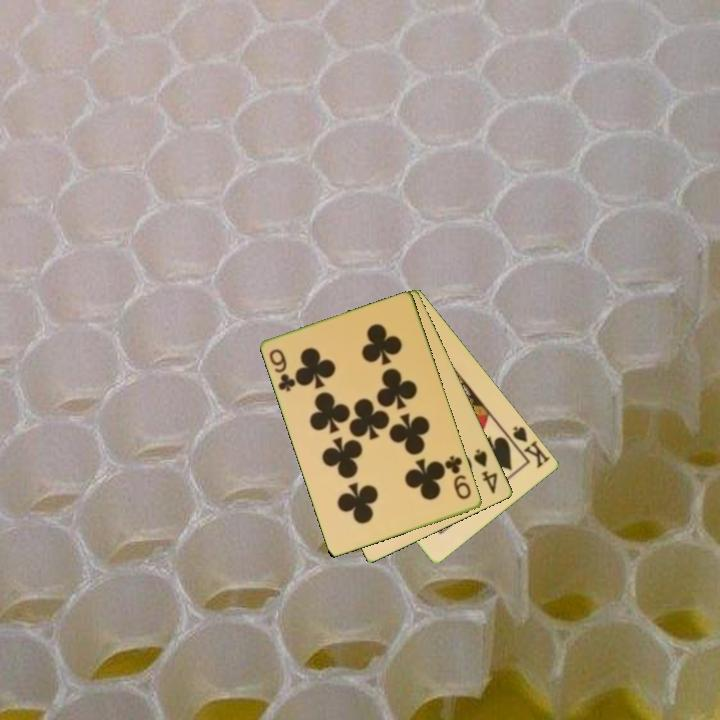4s: (470, 445, 501, 497)
9c: (441, 452, 474, 503), (266, 345, 299, 395)
Ks: (509, 422, 553, 471)
